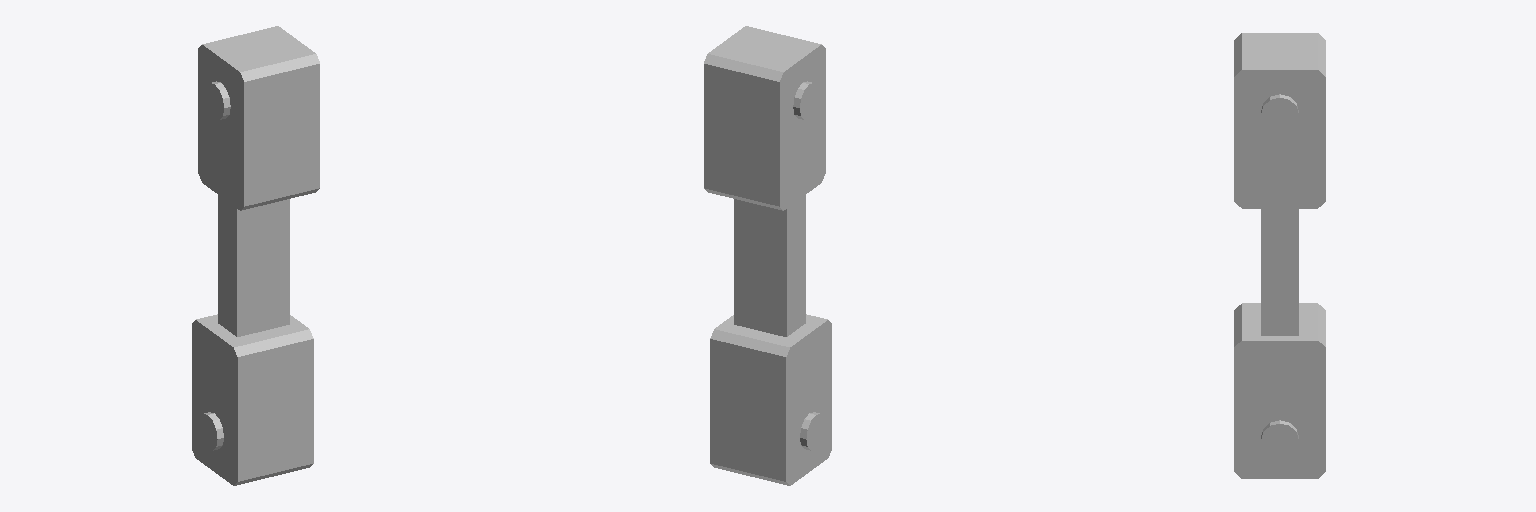
Rendered from leftLeg2.obj.
The picture shows the model from 3 angles: view 1: azimuth 30°, elevation 25°; view 2: azimuth 150°, elevation 25°; view 3: azimuth 270°, elevation 25°; orthographic projection.
Visible parts, largest first — view 1: unnamed_object1; view 2: unnamed_object1; view 3: unnamed_object1.
Boxes of the visible parts, box(x1,y1,x2,y2) form: unnamed_object1: box(192, 26, 319, 485); unnamed_object1: box(704, 26, 831, 485); unnamed_object1: box(1234, 33, 1325, 478).
Size of the model in its own units: 7.25 by 29.75 by 6.